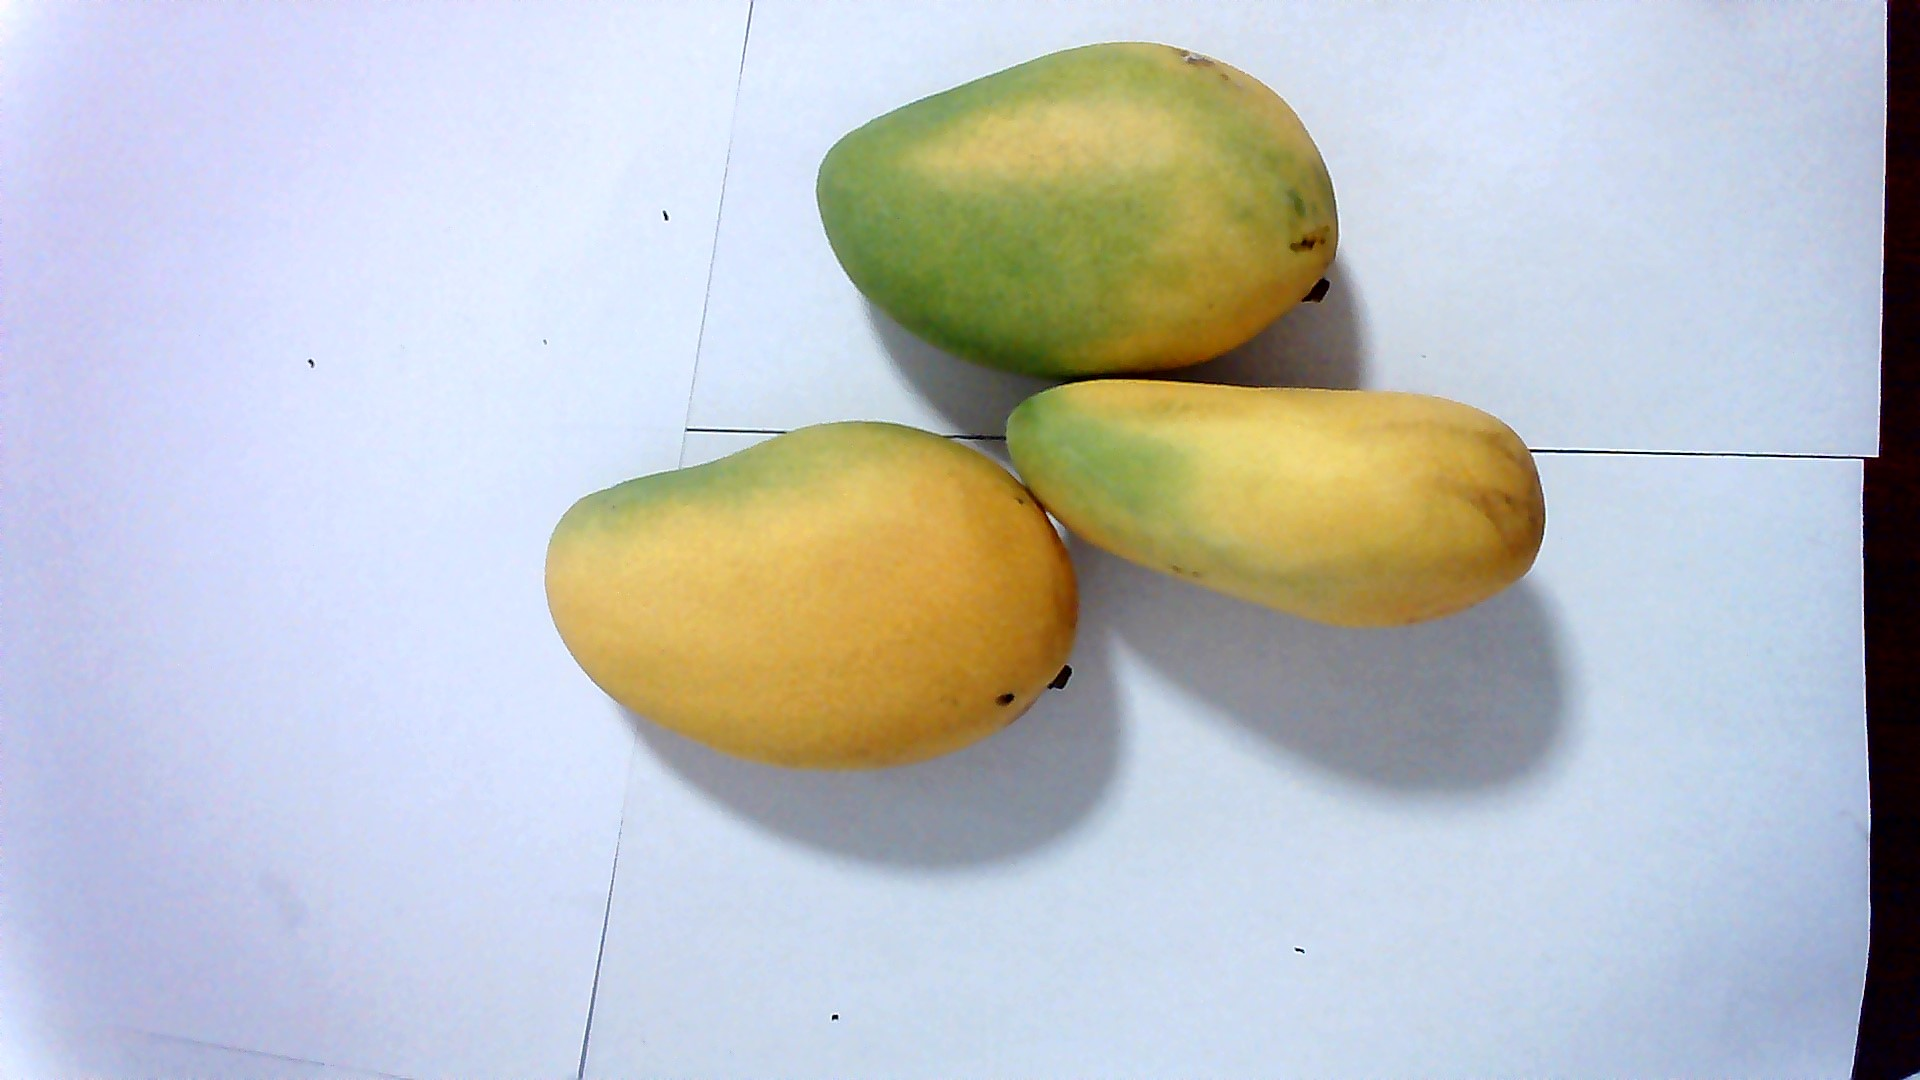mongo: (800, 32, 1389, 367), (545, 417, 1081, 777), (985, 347, 1553, 630)
